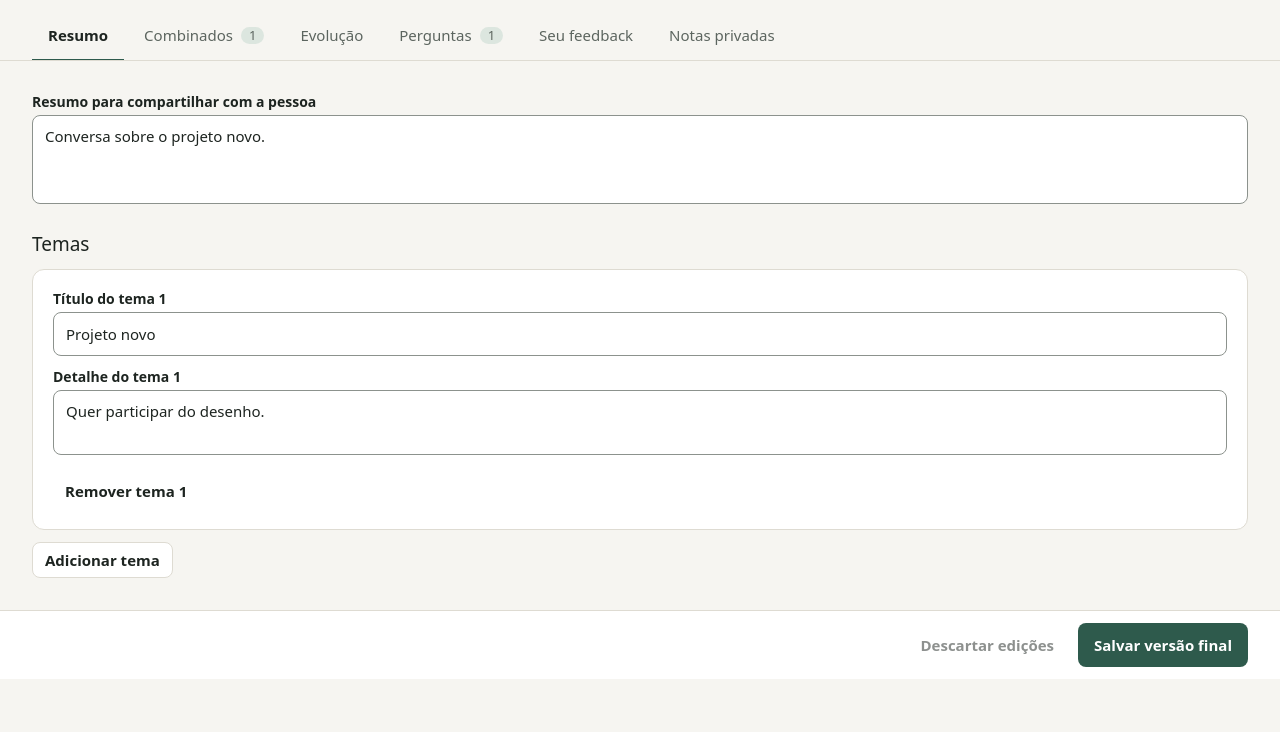
Test: ReviewEditor › deve manter as edições ao trocar de aba
This screenshot has width=1280, height=732.
Replace the text in the text box labelled "Resumo para compartilhar com a pessoa" with "Texto novo": (640, 159) left=32, top=115, right=1248, bottom=204
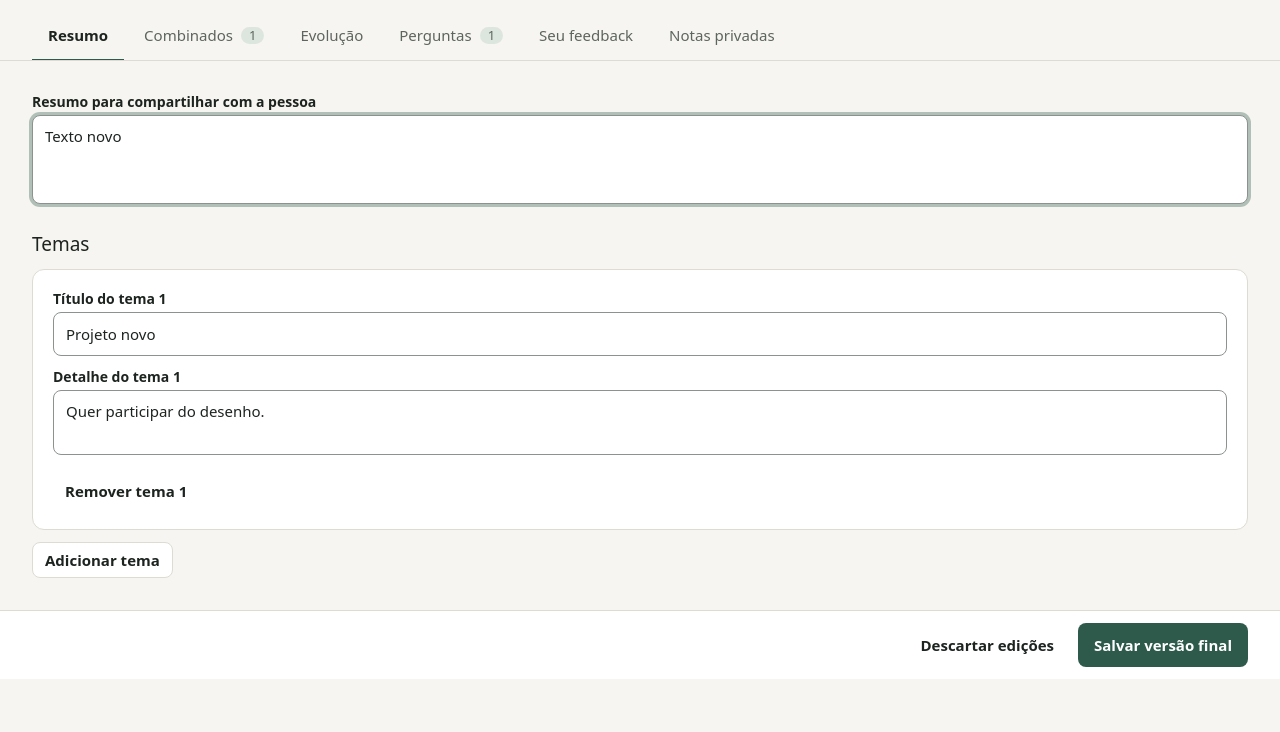
Click the tab "Combinados 1": (204, 36) left=128, top=12, right=280, bottom=60
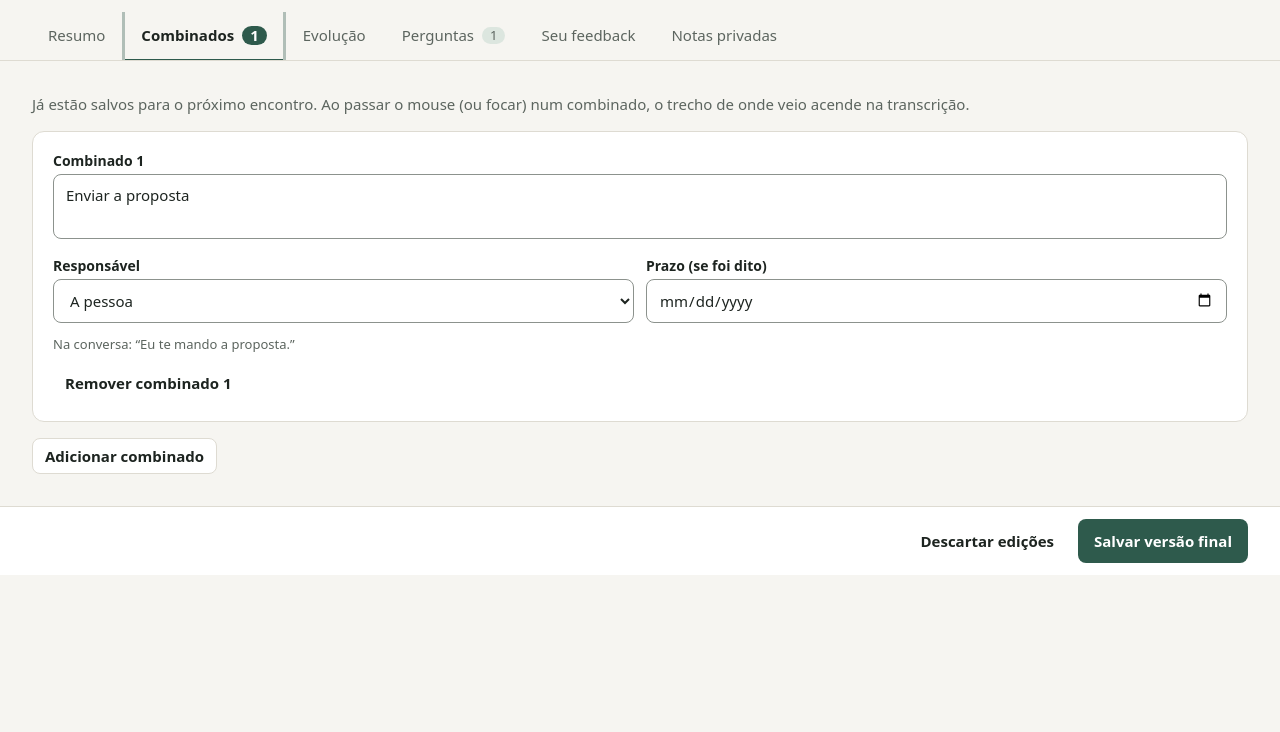
Click the tab "Resumo": (77, 36) left=32, top=12, right=121, bottom=60
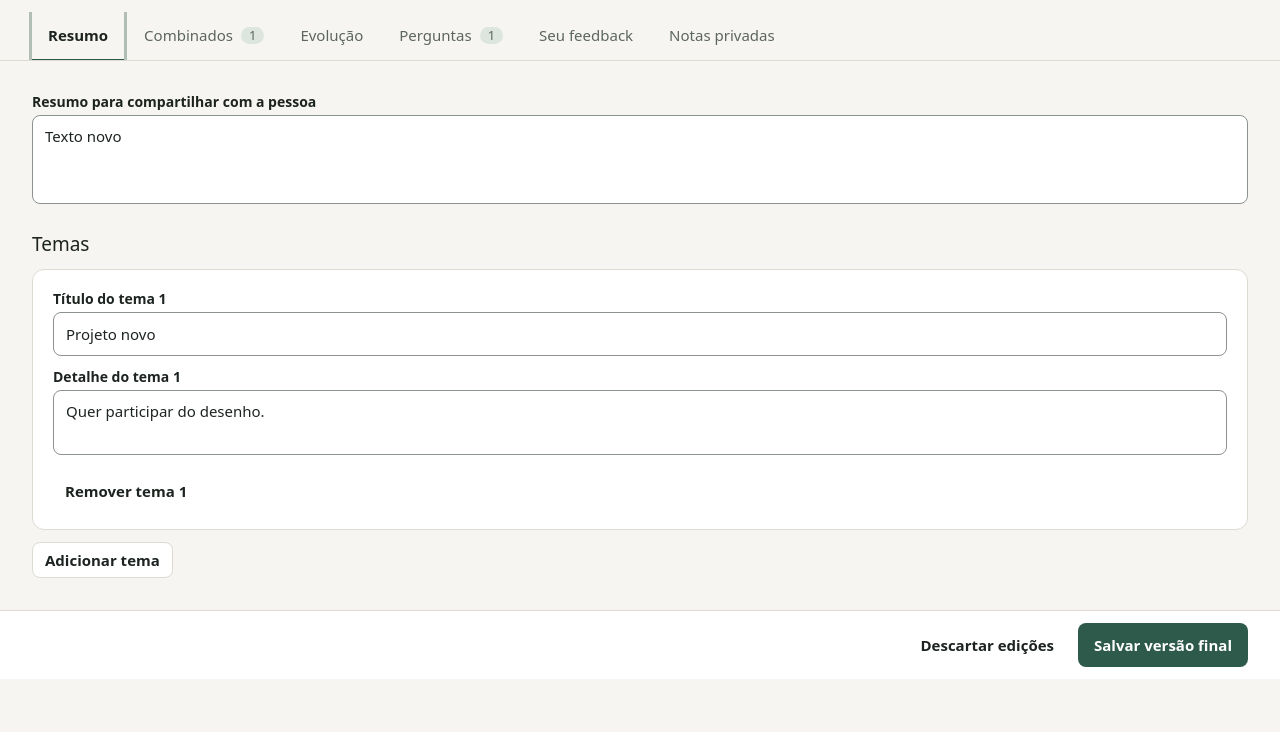
Now the text box labelled "Resumo para compartilhar com a pessoa" holds "Texto novo", box left=32, top=115, right=1248, bottom=204
